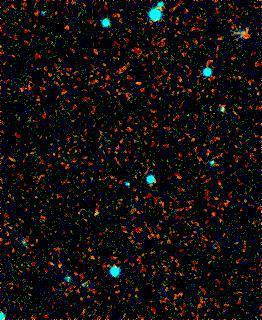star: (81, 198, 111, 228)
